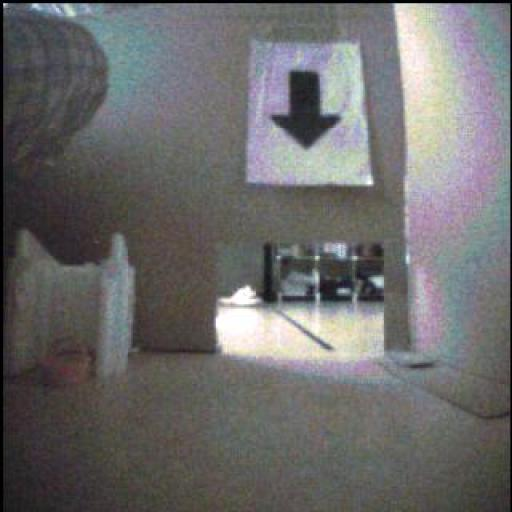arrow: (273, 71, 340, 150)
